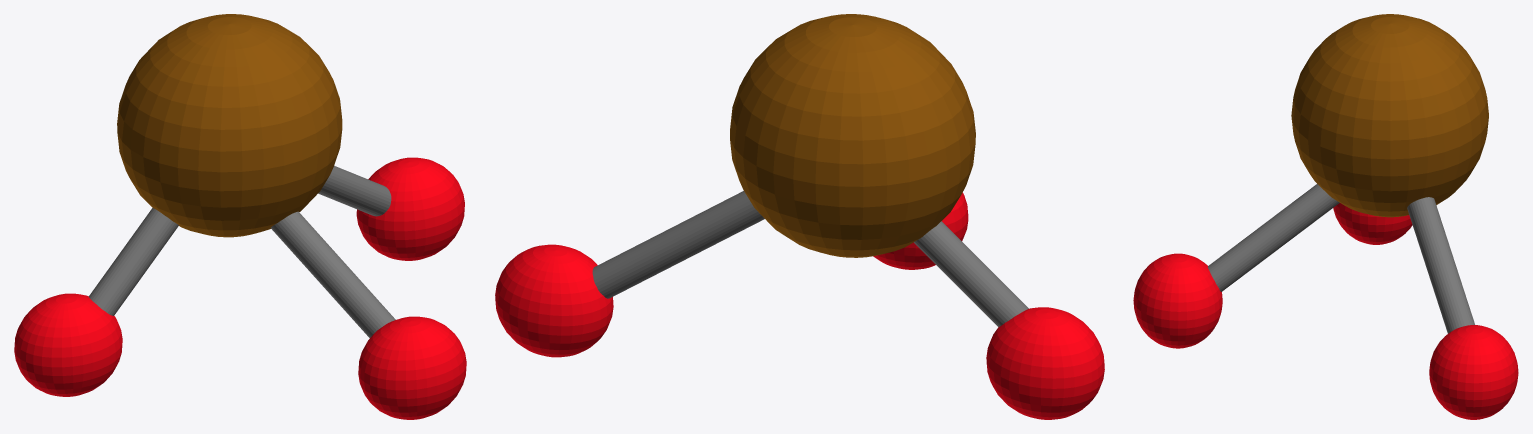
3 renders of one model, left to right at view 1: azimuth 30°, elevation 25°; view 2: azimuth 150°, elevation 25°; view 3: azimuth 270°, elevation 25°, orthographic. The views are drawn at different scales.
Visible parts, largest first — view 1: Sphere, Sphere.002, Sphere.001, Sphere.003, Cylinder.002, Cylinder.001, Cylinder; view 2: Sphere, Sphere.001, Sphere.003, Cylinder, Cylinder.001, Sphere.002; view 3: Sphere, Sphere.003, Sphere.002, Cylinder.002, Cylinder, Sphere.001.
Boxes of the visible parts, box(x1,y1,x2,y2) form: Sphere: box(117, 14, 342, 237); Sphere.002: box(358, 316, 466, 419); Sphere.001: box(14, 293, 122, 396); Sphere.003: box(356, 157, 464, 260); Cylinder.002: box(271, 211, 395, 337); Cylinder.001: box(88, 208, 178, 315); Cylinder: box(318, 165, 391, 216); Sphere: box(730, 14, 975, 257); Sphere.001: box(986, 307, 1104, 419); Sphere.003: box(495, 244, 613, 357); Cylinder: box(592, 191, 764, 298); Cylinder.001: box(914, 221, 1028, 326); Sphere.002: box(873, 192, 968, 269); Sphere: box(1291, 14, 1488, 217); Sphere.003: box(1429, 325, 1518, 419); Sphere.002: box(1133, 253, 1222, 348); Cylinder.002: box(1208, 184, 1339, 291); Cylinder: box(1407, 197, 1474, 333); Sphere.001: box(1333, 203, 1412, 244).
Size of the model in its own units: 8.93 by 5.56 by 6.67.
